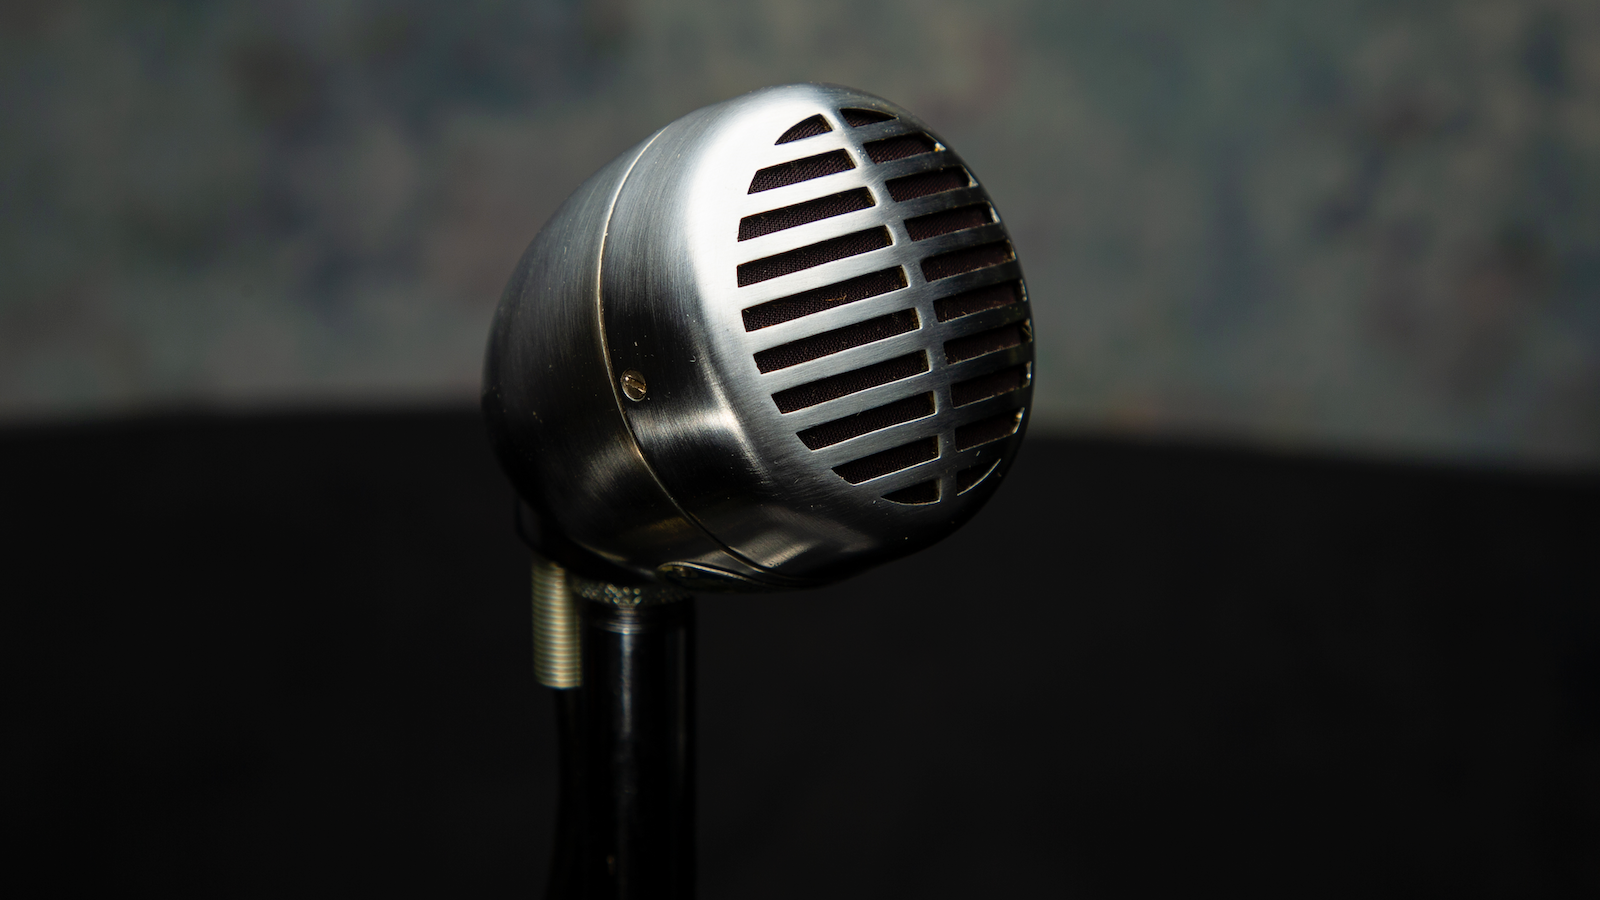microphone: (477, 79, 1042, 900)
